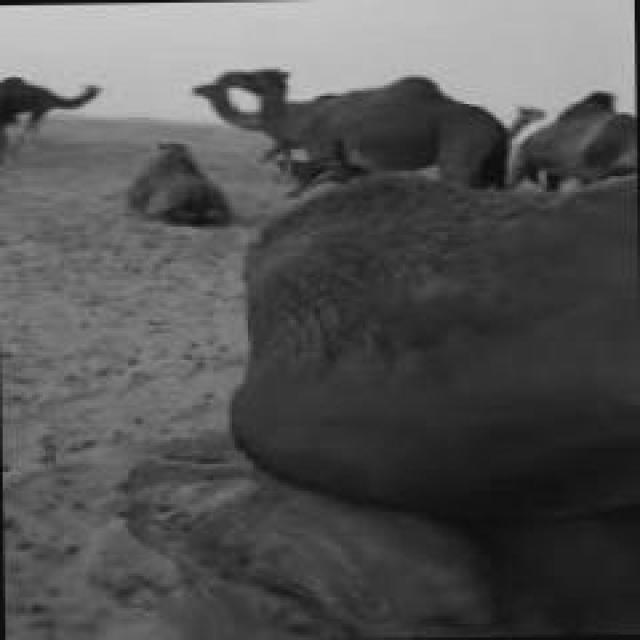Camel: (214, 64, 512, 195)
